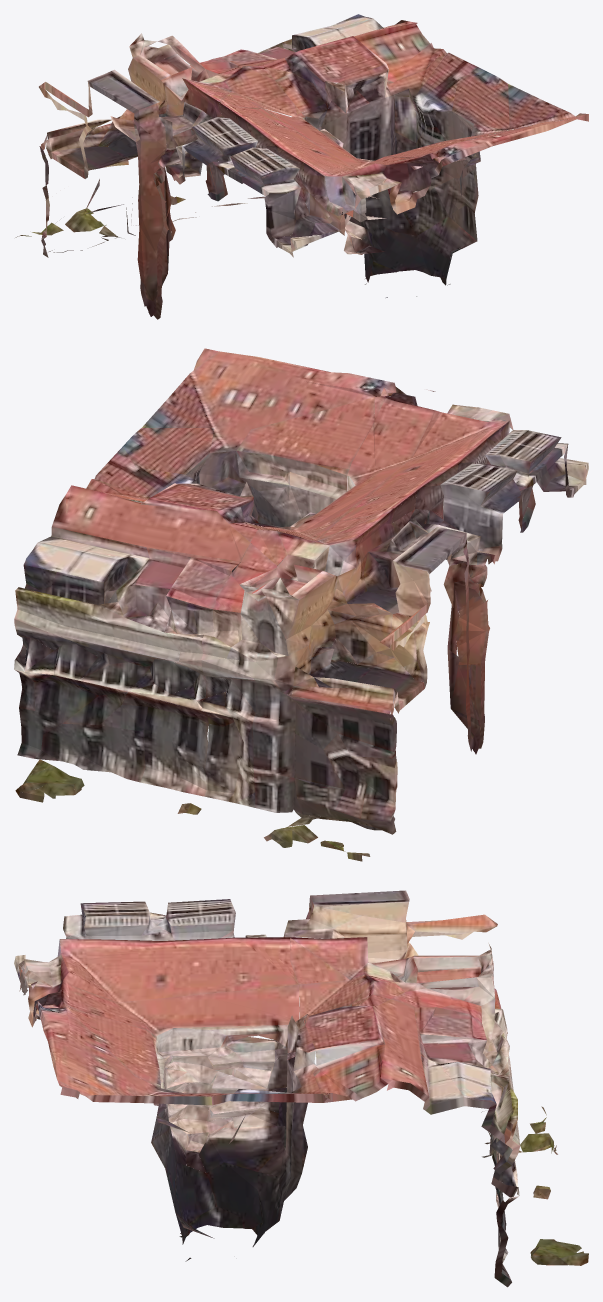
3 views of the same model, one above another, from view 1: azimuth 30°, elevation 25°; view 2: azimuth 150°, elevation 25°; view 3: azimuth 270°, elevation 25° (orthographic). The views are drawn at different scales.
Visible parts, largest first — view 1: Mesh_0; view 2: Mesh_0; view 3: Mesh_0.
Boxes of the visible parts, x1,y1,x2,y2 form: Mesh_0: [15, 14, 588, 319]; Mesh_0: [14, 348, 588, 861]; Mesh_0: [14, 890, 588, 1287].
Size of the model in its own units: 33.3 by 18.82 by 41.13.
2 materials, 2 textured.
